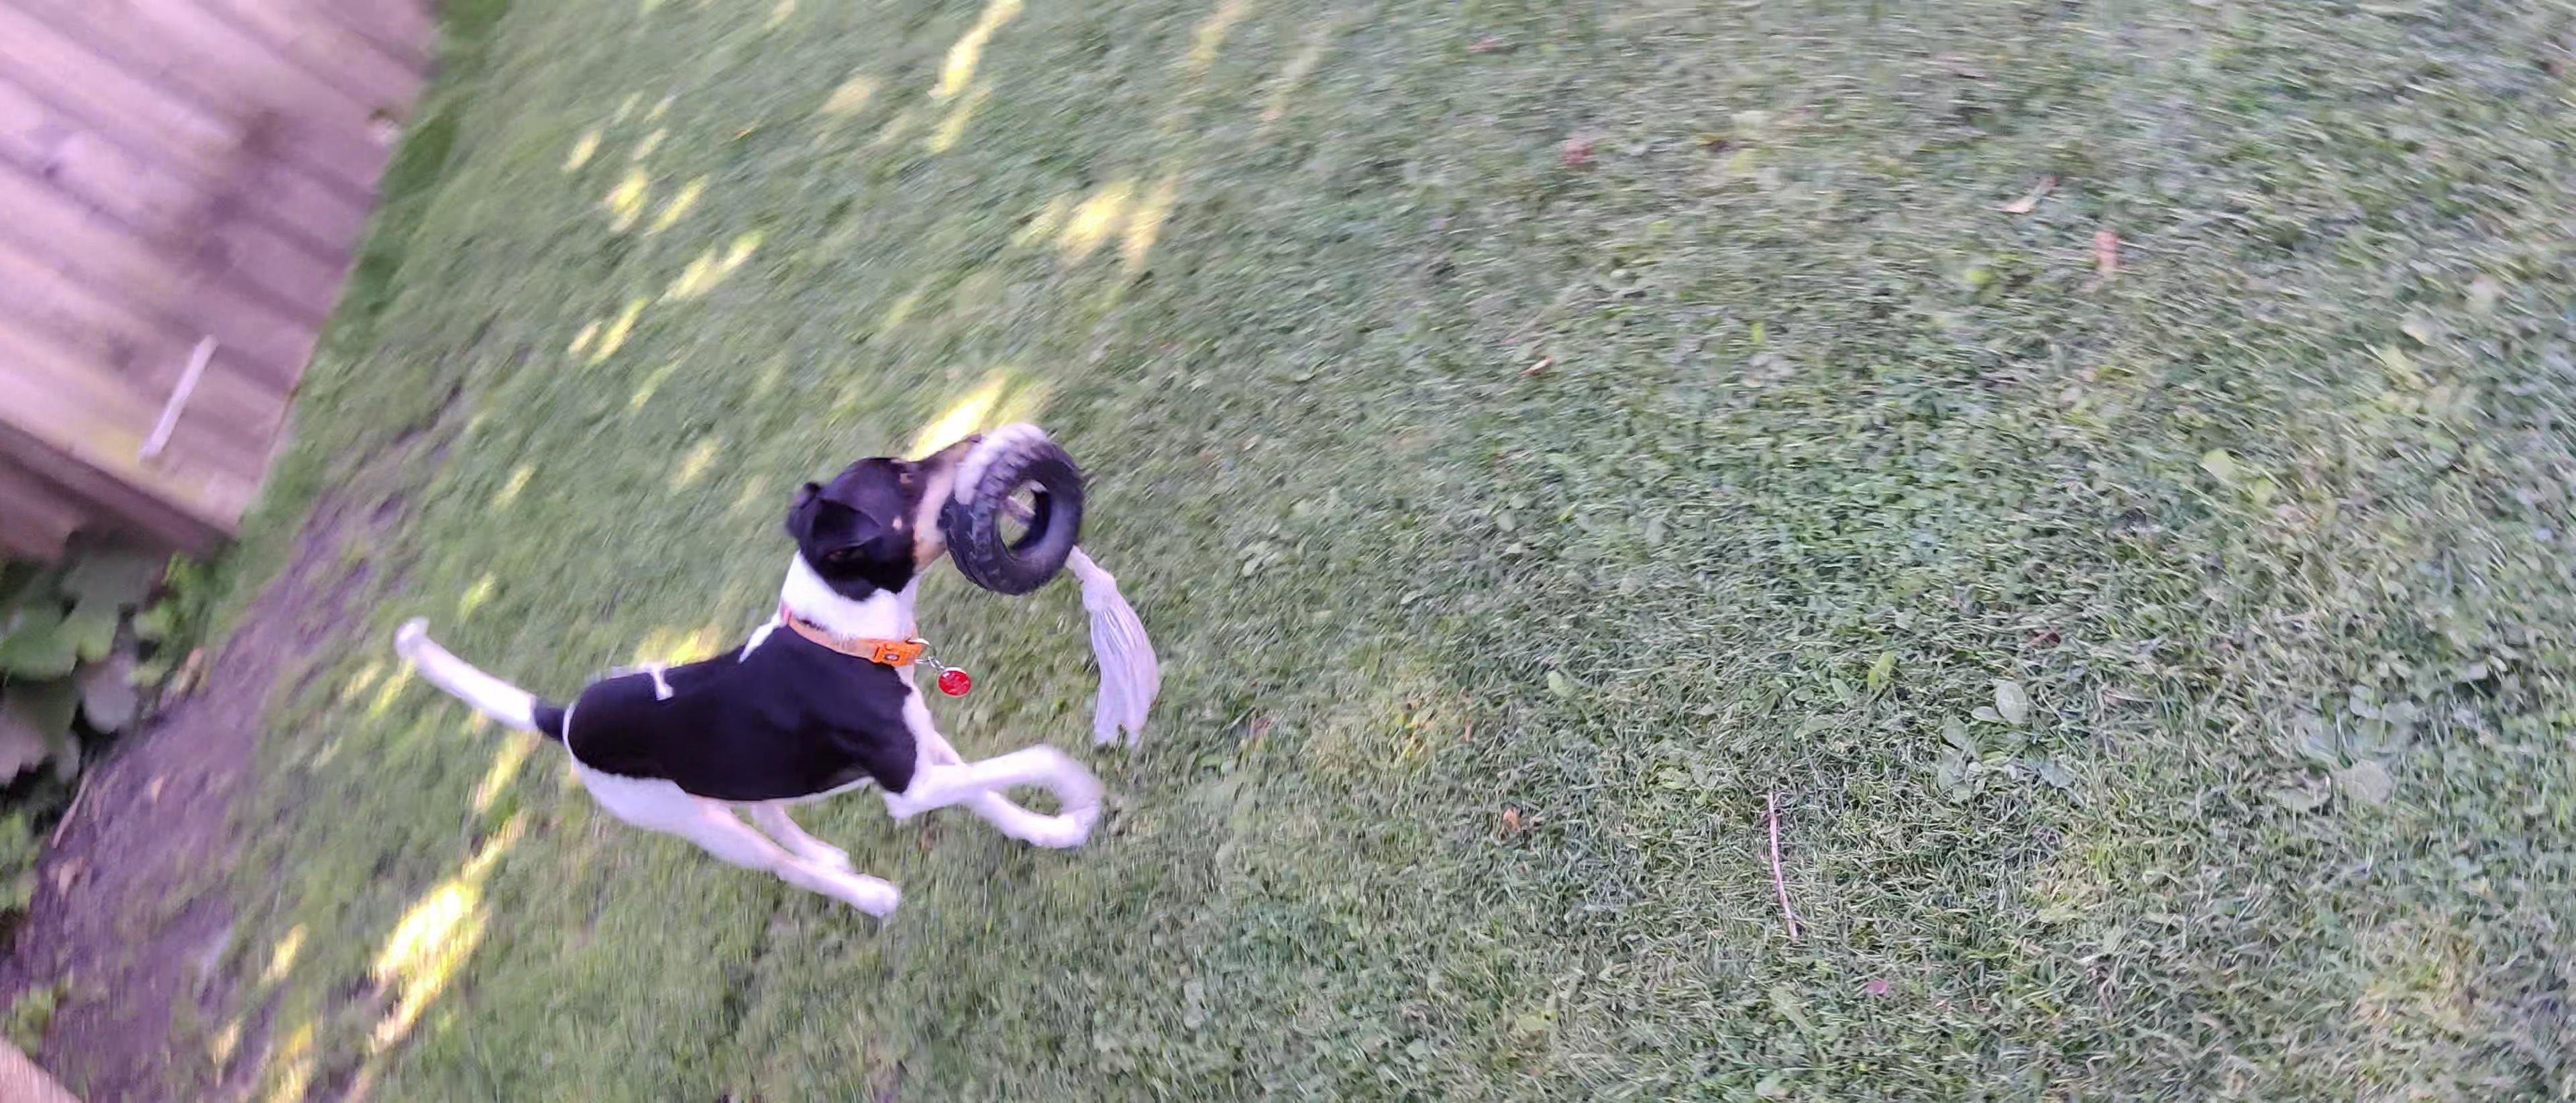Dog: (384, 419, 1124, 927)
